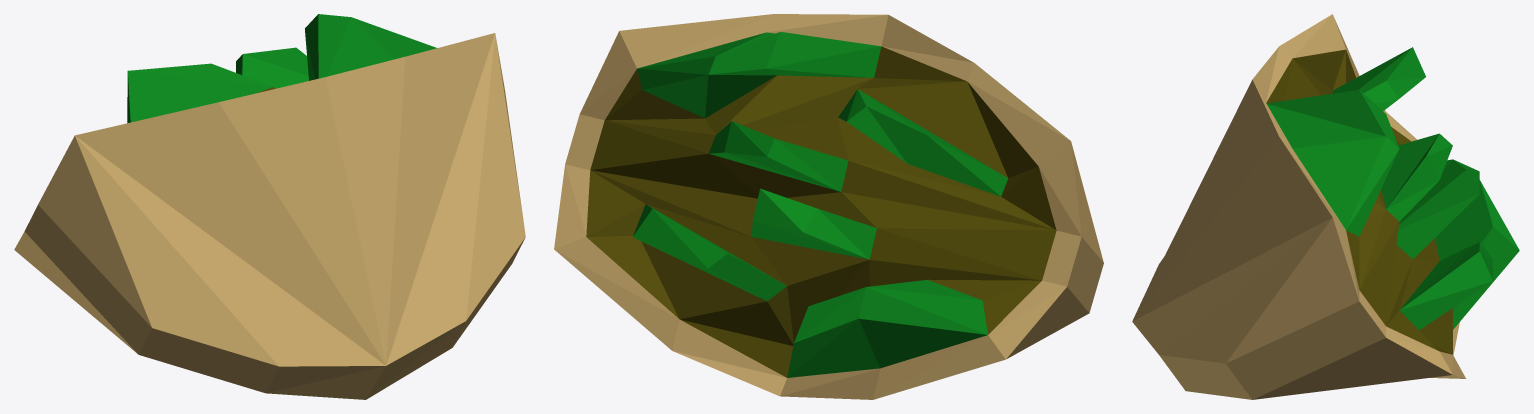
The model's file is inv_ugthanki_kebab_2.obj.
The picture shows the model from 3 angles, left to right: view 1: azimuth 30°, elevation 25°; view 2: azimuth 150°, elevation 25°; view 3: azimuth 270°, elevation 25°; orthographic projection. The views are drawn at different scales.
Size of the model in its own units: 0.3125 by 0.1953 by 0.2266.
